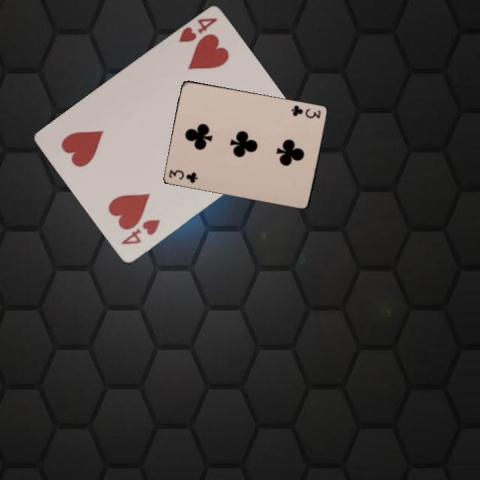3c: (289, 102, 322, 119), (166, 167, 199, 184)
4h: (117, 216, 162, 247), (176, 14, 220, 44)
